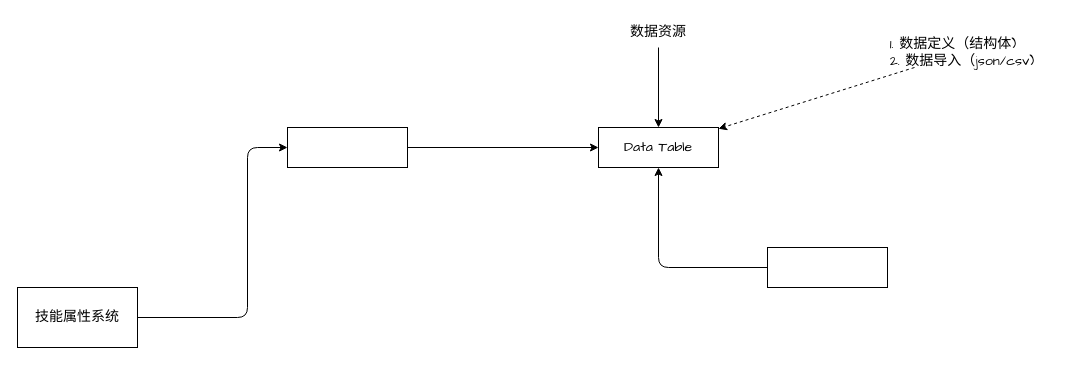
This 1075x365 diagram has some shape labels left out. The centre of each missing label's shape, as x and y in pixels:
"Unreal" belongs at pixel 827 267.
"数据" belongs at pixel 347 147.
